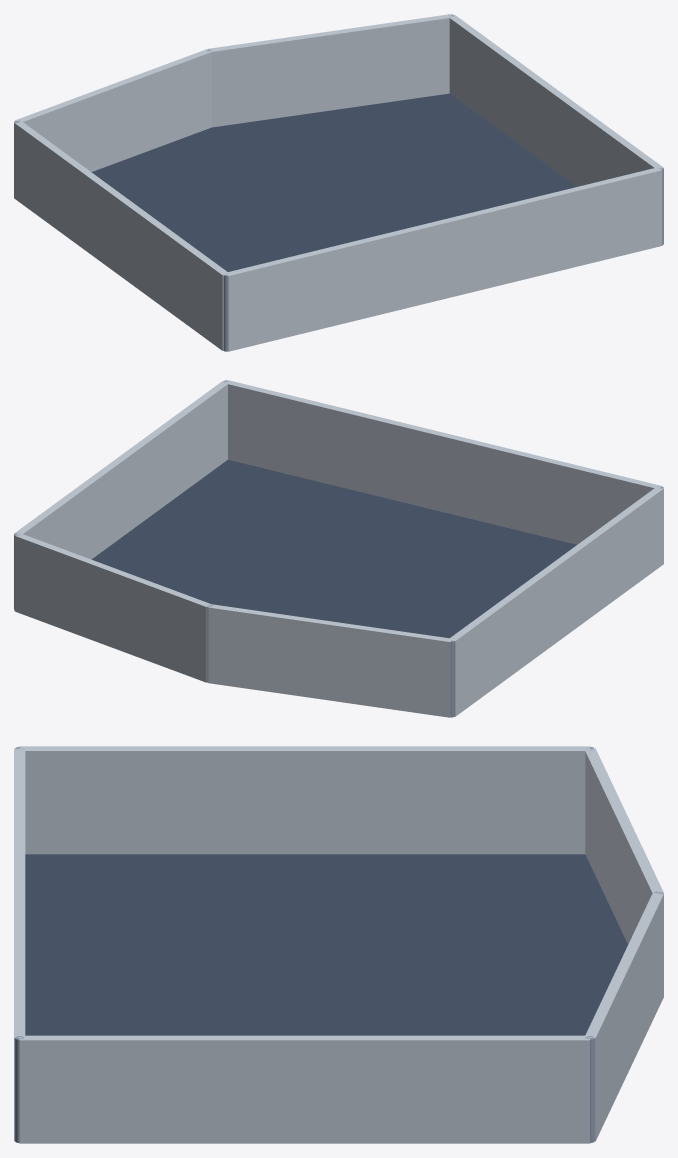
The picture shows the model from 3 angles, top to bottom: view 1: azimuth 30°, elevation 25°; view 2: azimuth 150°, elevation 25°; view 3: azimuth 270°, elevation 25°; orthographic projection. The views are drawn at different scales.
Visible parts, largest first — view 1: room-content; view 2: room-content; view 3: room-content.
Part boxes in pixels (x1=…): room-content: x1=14, y1=14, x2=663, y2=351; room-content: x1=14, y1=380, x2=663, y2=717; room-content: x1=14, y1=746, x2=663, y2=1143.
Size of the model in its own units: 30.5 by 5 by 28.5.
